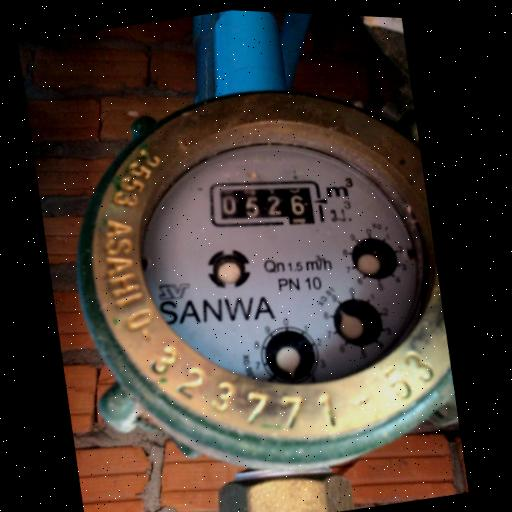0: (215, 185, 246, 222)
2: (257, 184, 294, 222)
5: (235, 184, 269, 222)
6: (281, 184, 318, 227)
border_water_meter_number: (202, 162, 332, 245)
